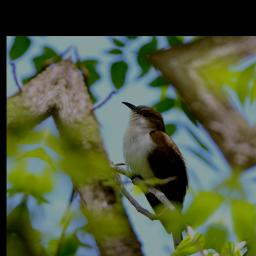Cuckoo: (70, 97, 243, 256)
